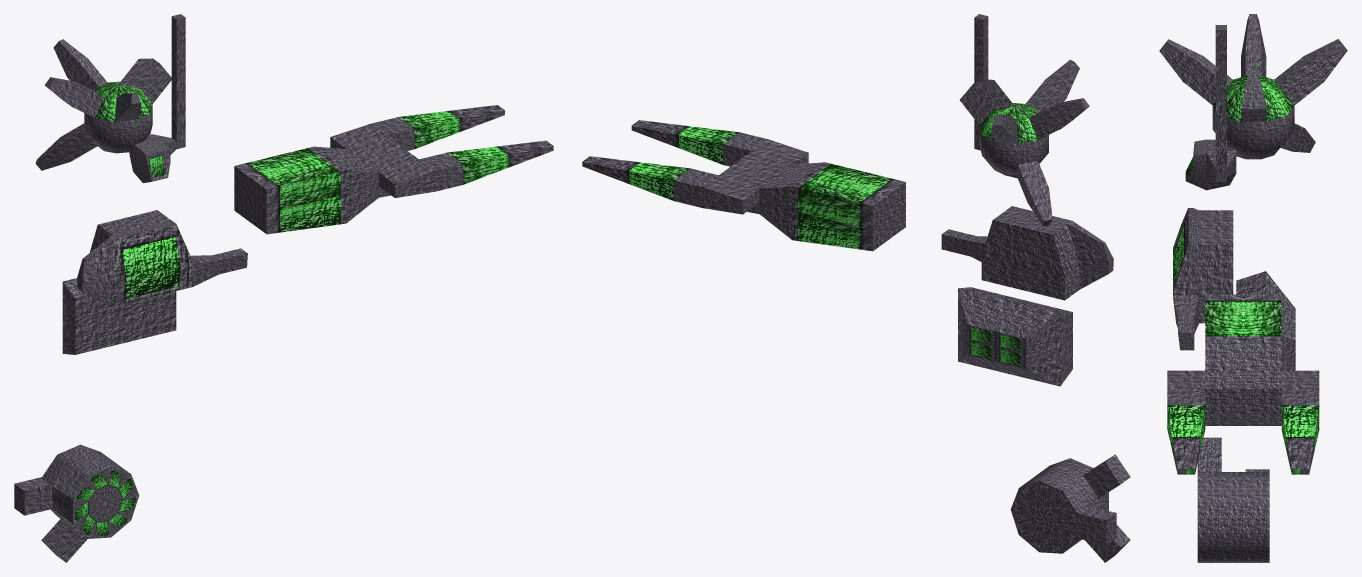
File: borg_stuff.DAE
The picture shows the model from 3 angles, left to right: view 1: azimuth 30°, elevation 25°; view 2: azimuth 150°, elevation 25°; view 3: azimuth 270°, elevation 25°; orthographic projection. The views are drawn at different scales.
Parts seen in each view (by area): view 1: Box06; view 2: Box06; view 3: Box06.
Boxes of the visible parts, x1,y1,x2,y2 form: Box06: (14, 14, 553, 562); Box06: (582, 14, 1130, 562); Box06: (1159, 14, 1347, 562).
Bounding box in the file's own units: 1.79 × 1.74 × 0.4976.
